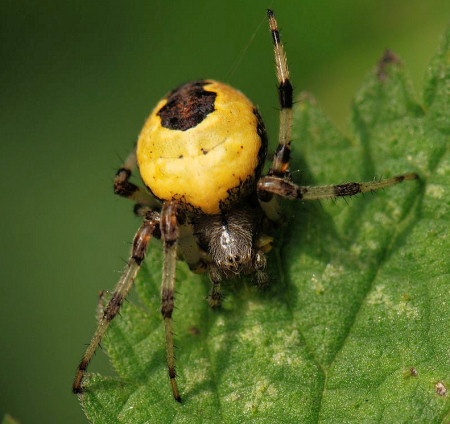spider: (54, 3, 424, 409)
